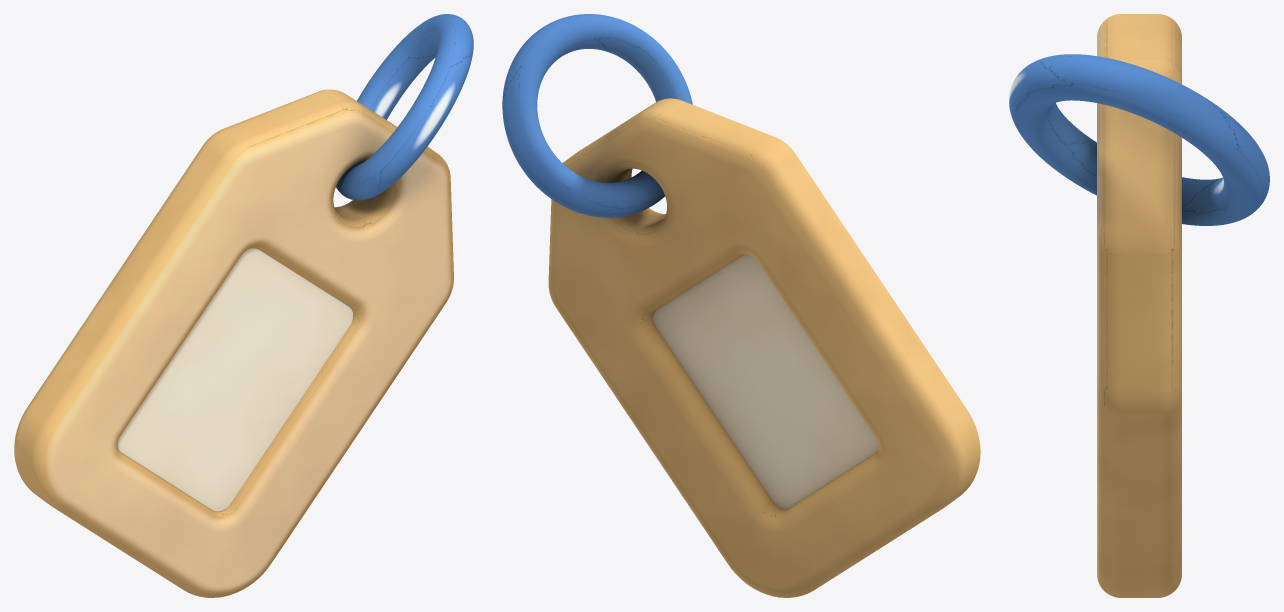
File: Nametag.glb
The picture shows the model from 3 angles, left to right: view 1: azimuth 30°, elevation 25°; view 2: azimuth 150°, elevation 25°; view 3: azimuth 270°, elevation 25°; orthographic projection. The views are drawn at different scales.
Visible parts, largest first — view 1: NT_Nametag; view 2: NT_Nametag; view 3: NT_Nametag.
Boxes of the visible parts, bbox=[...] form: NT_Nametag: bbox=[14, 14, 473, 597]; NT_Nametag: bbox=[502, 14, 980, 597]; NT_Nametag: bbox=[1009, 14, 1269, 597].
Size of the model in its own units: 1.5 by 1.65 by 0.5804.
1 material, 1 textured.
